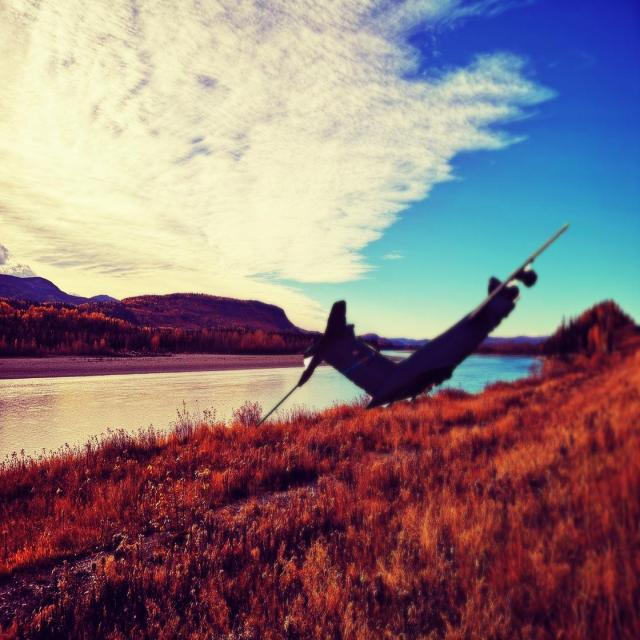airplane: (255, 222, 569, 427)
